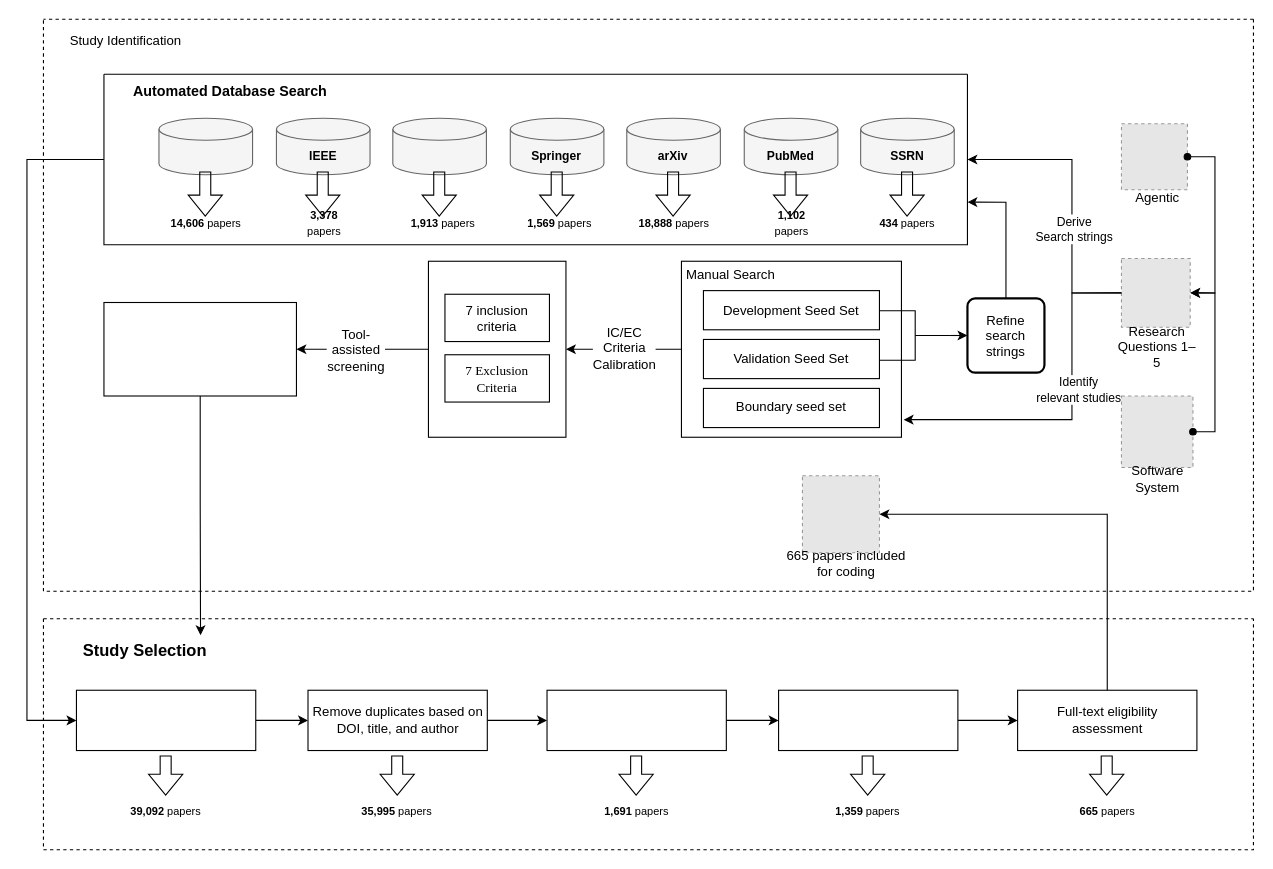
This 1273x869 diagram has some shape labels left out. Grey dashed boxes stand in for pictures. The centre of each missing label's shape, as x and y in pixels:
"ACM" goes at pixel 439 146.
"Full-text retrieval" goes at pixel 867 720.
"Import into Zotero" goes at pixel 165 720.
"Researcher review and screening criteria refinement" goes at pixel 199 348.
"Scopus" goes at pixel 205 146.
"Title and abstract screening" goes at pixel 636 720.
